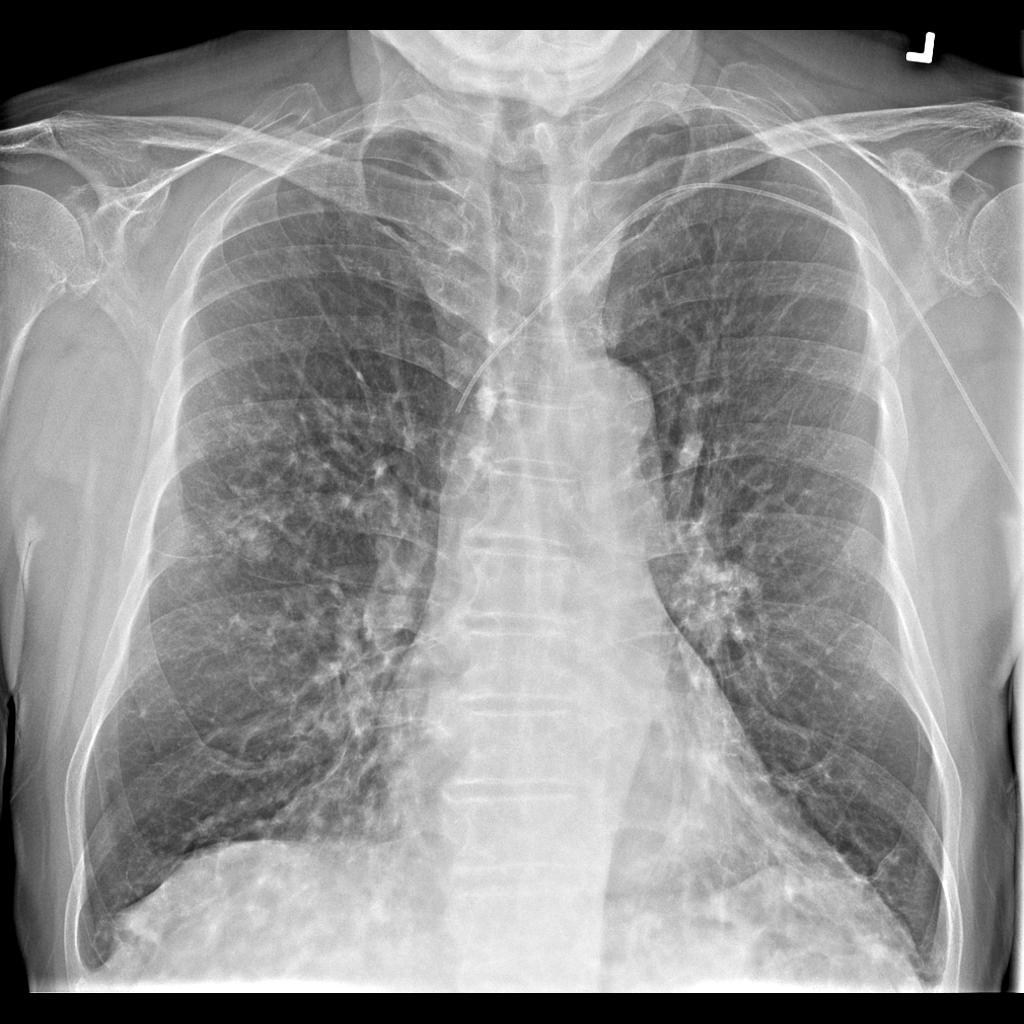Nodule: (214, 484, 294, 568)
